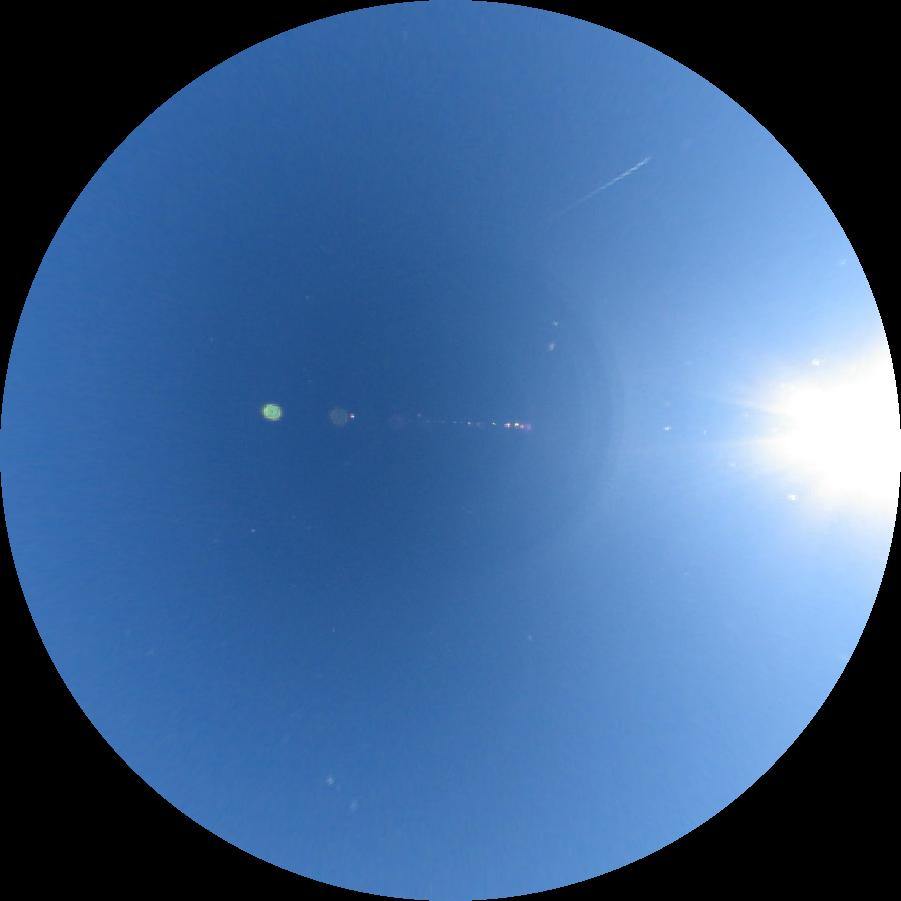contrail young: (556, 156, 650, 215)
sun: (784, 350, 900, 512)
